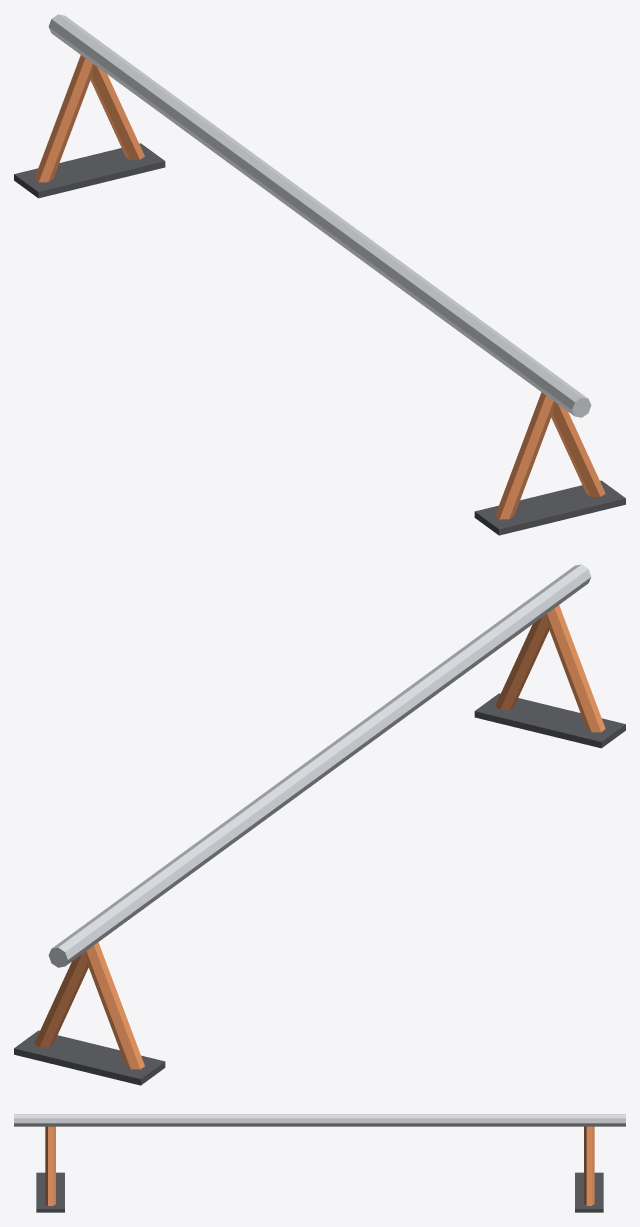
The model's file is skate-park-and-street-sports-flat-rail-56efb804__33521.glb.
The picture shows the model from 3 angles, top to bottom: view 1: azimuth 30°, elevation 25°; view 2: azimuth 150°, elevation 25°; view 3: azimuth 270°, elevation 25°; orthographic projection. The views are drawn at different scales.
Parts seen in each view (by area): view 1: flat-rail-steel, flat-rail-sunset, flat-rail-charcoal; view 2: flat-rail-steel, flat-rail-sunset, flat-rail-charcoal; view 3: flat-rail-steel, flat-rail-sunset, flat-rail-charcoal.
Boxes of the visible parts, x1,y1,x2,y2 form: flat-rail-steel: (48, 14, 591, 417); flat-rail-sunset: (34, 55, 605, 519); flat-rail-charcoal: (14, 143, 625, 535); flat-rail-steel: (48, 564, 591, 967); flat-rail-sunset: (34, 605, 605, 1069); flat-rail-charcoal: (14, 693, 625, 1085); flat-rail-steel: (14, 1114, 625, 1126); flat-rail-sunset: (45, 1126, 594, 1205); flat-rail-charcoal: (36, 1172, 603, 1212).
Bounding box in the file's own units: 0.4198 × 0.4409 × 3.
